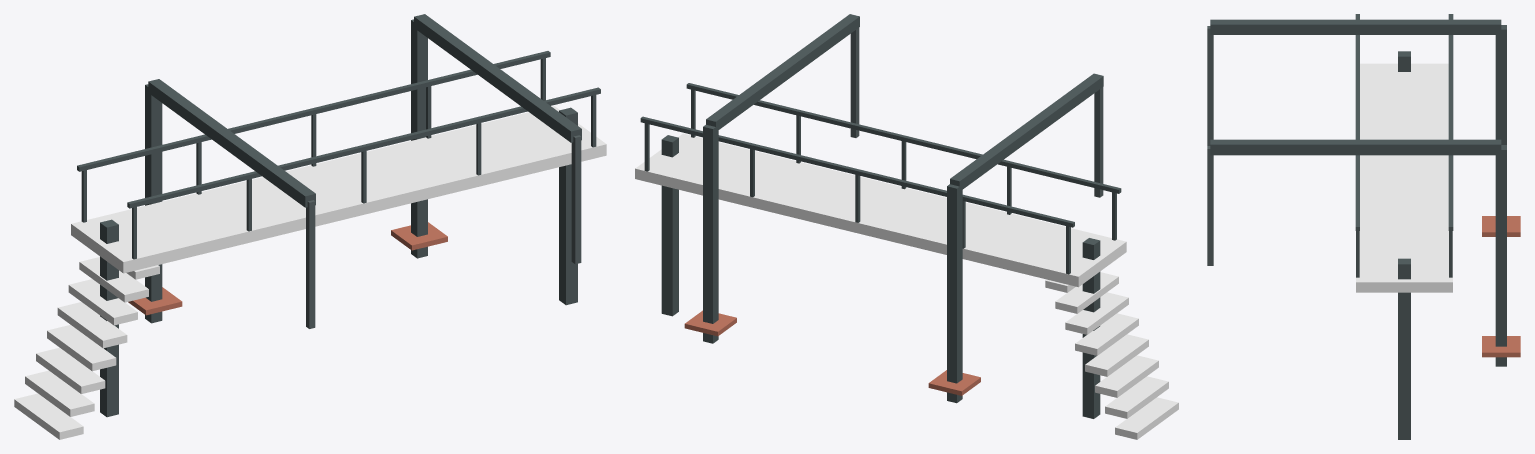
The model's file is frontier_fuel_loading_gantry.glb.
3 renders of one model, left to right at view 1: azimuth 30°, elevation 25°; view 2: azimuth 150°, elevation 25°; view 3: azimuth 270°, elevation 25°, orthographic. The views are drawn at different scales.
Visible parts, largest first — view 1: frontier_fuel_loading_gantry; view 2: frontier_fuel_loading_gantry; view 3: frontier_fuel_loading_gantry.
Part boxes in pixels (x1,y1,x2,y2): frontier_fuel_loading_gantry: [14, 14, 606, 439]; frontier_fuel_loading_gantry: [635, 14, 1178, 439]; frontier_fuel_loading_gantry: [1207, 14, 1520, 439].
Size of the model in its own units: 9 by 4.29 by 4.85.
